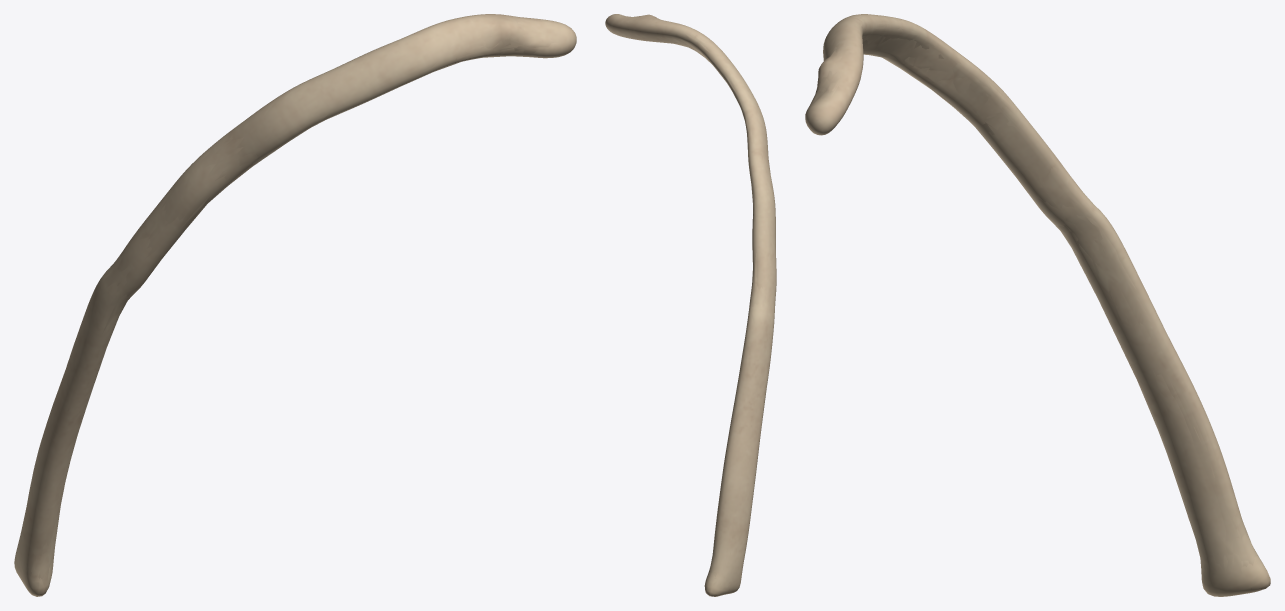
File: Rib R09.fbx
3 renders of one model, left to right at view 1: azimuth 30°, elevation 25°; view 2: azimuth 150°, elevation 25°; view 3: azimuth 270°, elevation 25°, orthographic. The views are drawn at different scales.
Visible parts, largest first — view 1: Rib R09 high, Rib R09, Rib R09 low; view 2: Rib R09 high, Rib R09, Rib R09 low; view 3: Rib R09, Rib R09 low, Rib R09 high.
Boxes of the visible parts, x1,y1,x2,y2 form: Rib R09 high: (14,14,576,596); Rib R09: (14,14,576,596); Rib R09 low: (16,18,555,578); Rib R09 high: (605,14,776,596); Rib R09: (605,14,776,596); Rib R09 low: (622,15,775,577); Rib R09: (805,14,1270,596); Rib R09 low: (809,19,1256,589); Rib R09 high: (805,14,1268,596).
Size of the model in its own units: 15.34 by 24.98 by 15.12.
Materials: 1 (1 with a texture image).
